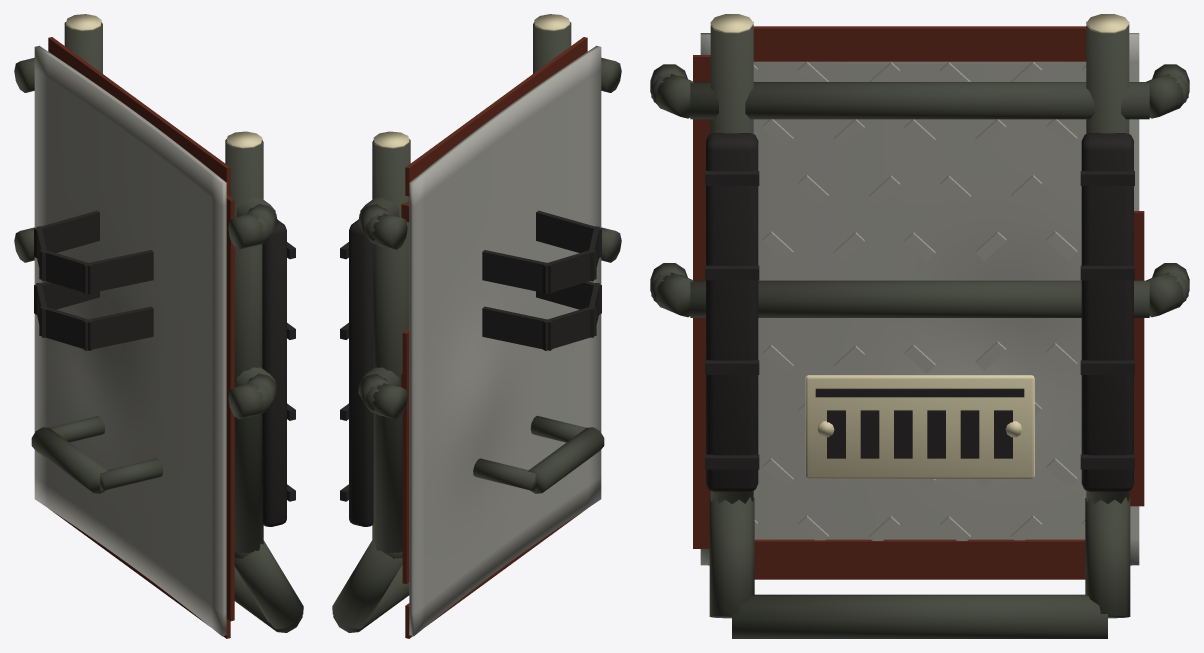
Rendered from item_crash_bar.glb.
3 views of the same model, side by side, from view 1: azimuth 30°, elevation 25°; view 2: azimuth 150°, elevation 25°; view 3: azimuth 270°, elevation 25° (orthographic). The views are drawn at different scales.
Parts seen in each view (by area): view 1: plate, upright_0_0, pad_0, rust_2, upright_0_1, rust_0, grip, loop_1_0, loop_0_0, loop_0_3, loop_0_1, loop_1_1 (+12 smaller); view 2: plate, upright_1_0, pad_1, upright_1_1, rust_0, grip, loop_1_3, loop_0_3, rust_3, loop_0_0, loop_1_2, loop_0_2 (+12 smaller); view 3: plate, nv_plate, cross_low, pad_0, pad_1, cross_0, rust_1, cross_1, rust_0, rust_2, upright_0_1, upright_1_1 (+22 smaller).
Boxes of the visible parts, x1,y1,x2,y2 form: plate: (34, 45, 226, 636); upright_0_0: (225, 139, 263, 552); pad_0: (262, 219, 286, 526); rust_2: (226, 195, 234, 621); upright_0_1: (234, 540, 303, 628); rust_0: (48, 37, 230, 195); grip: (31, 427, 107, 493); loop_1_0: (83, 306, 153, 350); loop_0_0: (83, 250, 153, 294); loop_0_3: (34, 210, 99, 258); loop_0_1: (39, 249, 93, 294); loop_1_1: (39, 305, 93, 350); plate: (409, 45, 601, 636); upright_1_0: (372, 139, 410, 552); pad_1: (349, 219, 373, 526); upright_1_1: (332, 540, 402, 628); rust_0: (405, 37, 587, 196); grip: (528, 427, 604, 493); loop_1_3: (482, 306, 552, 350); loop_0_3: (482, 250, 552, 294); rust_3: (402, 328, 409, 583); loop_0_0: (536, 210, 601, 258); loop_1_2: (542, 305, 596, 350); loop_0_2: (542, 249, 596, 294); plate: (700, 33, 1139, 565); nv_plate: (805, 375, 1034, 478); cross_low: (732, 594, 1107, 638); pad_0: (706, 133, 758, 491); pad_1: (1081, 133, 1133, 491); cross_0: (690, 82, 1149, 119); rust_1: (754, 539, 1085, 579); cross_1: (690, 280, 1149, 317); rust_0: (753, 26, 1086, 61); rust_2: (693, 55, 710, 548); upright_0_1: (709, 497, 754, 618); upright_1_1: (1085, 497, 1130, 618).
Size of the model in its own units: 0.2353 by 0.6241 by 0.5167.
